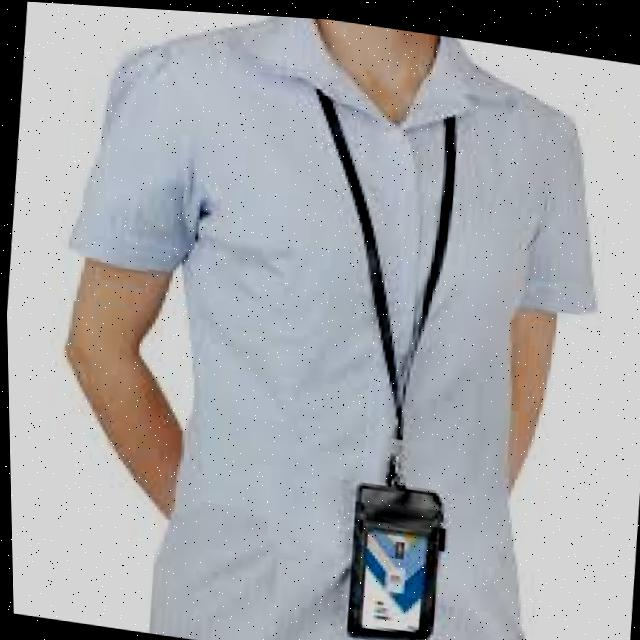id_card: (264, 78, 506, 640)
